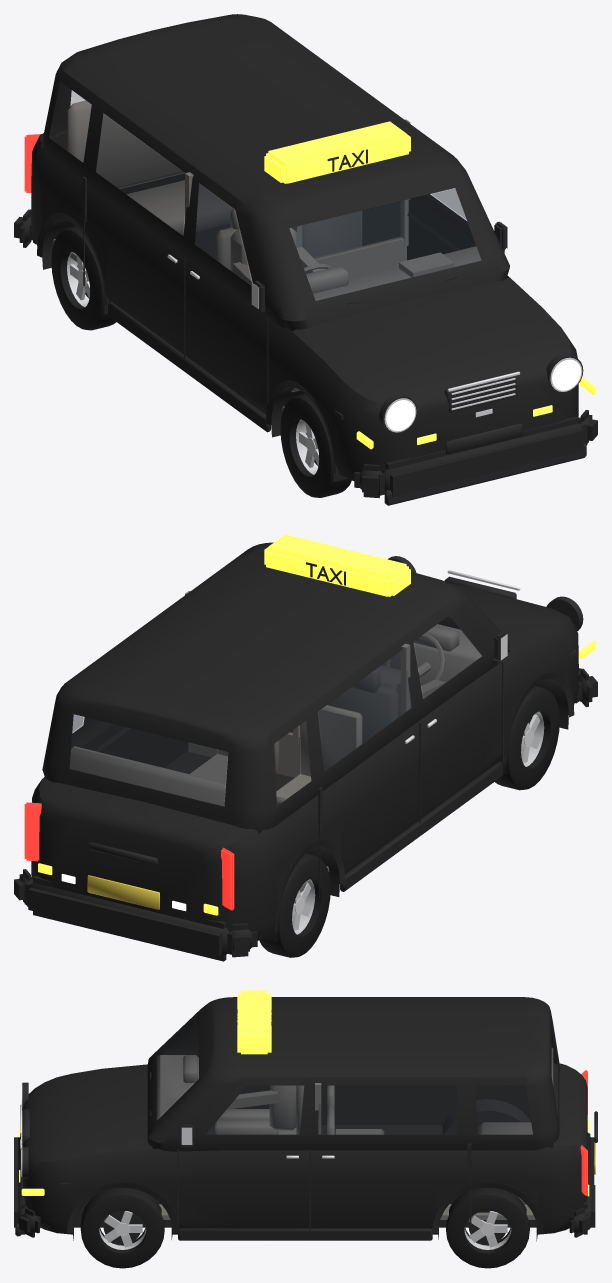
The model's file is blackcab.glb.
The picture shows the model from 3 angles, top to bottom: view 1: azimuth 30°, elevation 25°; view 2: azimuth 150°, elevation 25°; view 3: azimuth 270°, elevation 25°; orthographic projection. The views are drawn at different scales.
Parts seen in each view (by area): view 1: body, glass, interior, trim, taxi_sign, wheel_fr, wheel_rr, lights, mirrors; view 2: body, glass, interior, trim, taxi_sign, wheel_rr, wheel_fr, lights; view 3: body, glass, interior, trim, wheel_fl, wheel_rl, taxi_sign, lights.
Part boxes in pixels (box(x1,y1,x2,y2)): body: box(14, 14, 597, 498); glass: box(70, 90, 481, 300); interior: box(52, 100, 481, 412); trim: box(37, 176, 586, 505); taxi_sign: box(264, 121, 410, 183); wheel_fr: box(280, 393, 351, 497); wheel_rr: box(51, 226, 116, 330); lights: box(24, 134, 595, 449); mirrors: box(251, 221, 507, 312); body: box(14, 542, 597, 961); glass: box(69, 616, 482, 806); interior: box(69, 591, 481, 892); trim: box(87, 556, 583, 941); taxi_sign: box(264, 534, 410, 596); wheel_rr: box(259, 853, 330, 957); wheel_fr: box(495, 686, 559, 790); lights: box(24, 641, 595, 915); body: box(14, 997, 595, 1240); glass: box(156, 1015, 558, 1134); interior: box(157, 1047, 553, 1219); trim: box(15, 1072, 597, 1241); wheel_fl: box(80, 1187, 164, 1268); wheel_rl: box(446, 1187, 529, 1268); taxi_sign: box(236, 990, 272, 1054); lights: box(19, 1070, 595, 1196).
Size of the model in its own units: 1.8 by 1.83 by 4.59.
